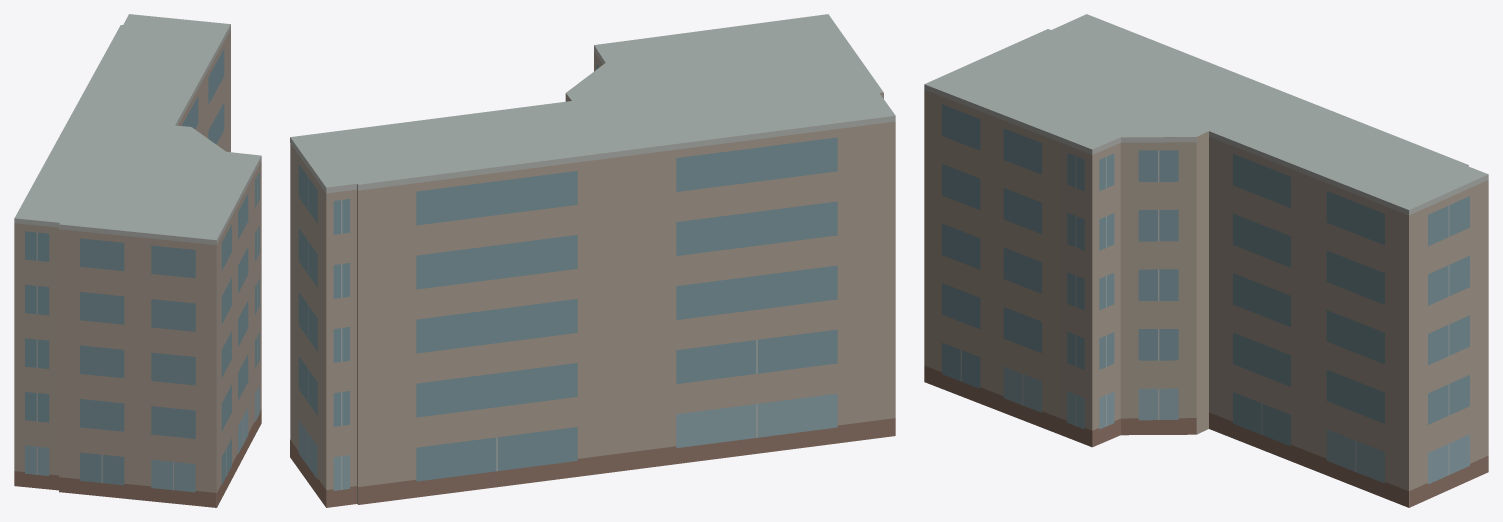
Rendered from survey-upis-32953181.glb.
3 views of the same model, side by side, from view 1: azimuth 30°, elevation 25°; view 2: azimuth 150°, elevation 25°; view 3: azimuth 270°, elevation 25° (orthographic). The views are drawn at different scales.
Parts seen in each view (by area): view 1: survey-upis-32953181.tmp; view 2: survey-upis-32953181.tmp; view 3: survey-upis-32953181.tmp.
Part boxes in pixels (x1,y1,x2,y2): survey-upis-32953181.tmp: (14, 14, 261, 507); survey-upis-32953181.tmp: (290, 14, 895, 507); survey-upis-32953181.tmp: (924, 14, 1488, 507).
Bounding box in the file's own units: 19.15 × 13.55 × 23.29.
